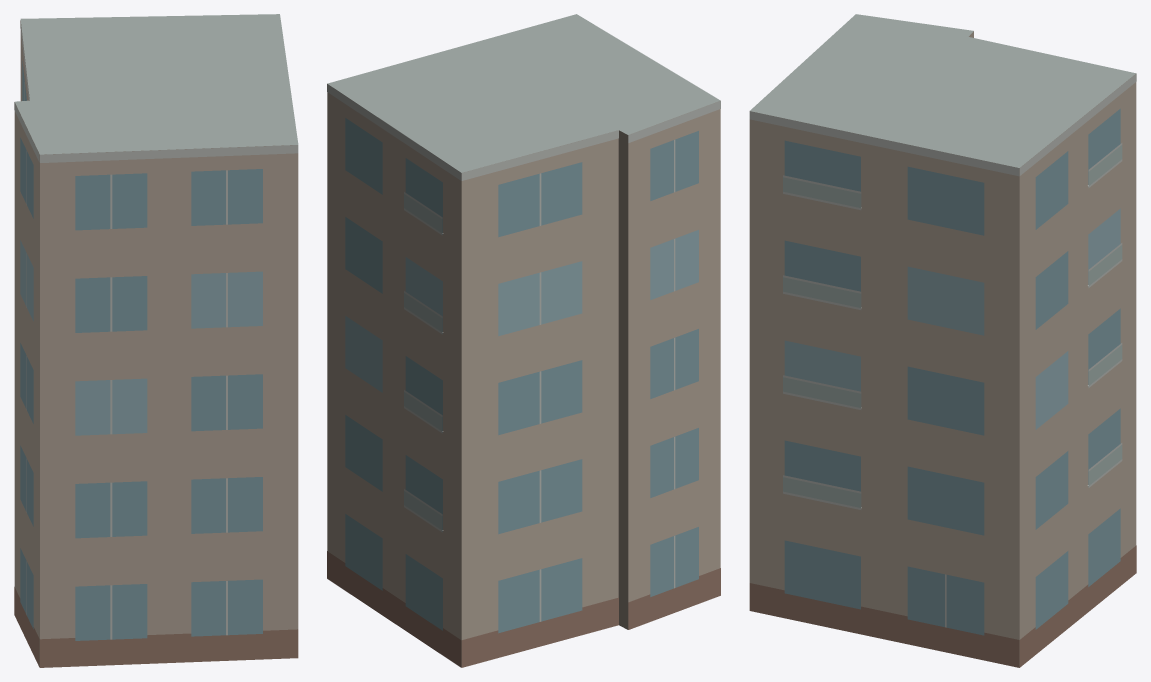
Rendered from survey-upis-33026563.glb.
3 views of the same model, side by side, from view 1: azimuth 30°, elevation 25°; view 2: azimuth 150°, elevation 25°; view 3: azimuth 270°, elevation 25° (orthographic). The views are drawn at different scales.
Visible parts, largest first — view 1: survey-upis-33026563.tmp; view 2: survey-upis-33026563.tmp; view 3: survey-upis-33026563.tmp.
Part boxes in pixels (bbox=[...]): survey-upis-33026563.tmp: bbox=[14, 14, 298, 667]; survey-upis-33026563.tmp: bbox=[327, 14, 720, 667]; survey-upis-33026563.tmp: bbox=[749, 14, 1136, 667].
Bounding box in the file's own units: 9.69 × 14.65 × 10.29.
